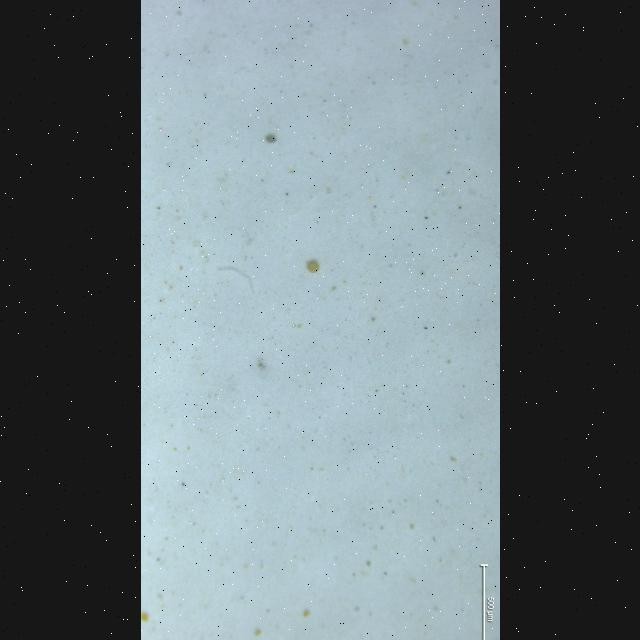Fibre: (217, 266, 254, 294)
Fragment: (307, 260, 319, 273)
